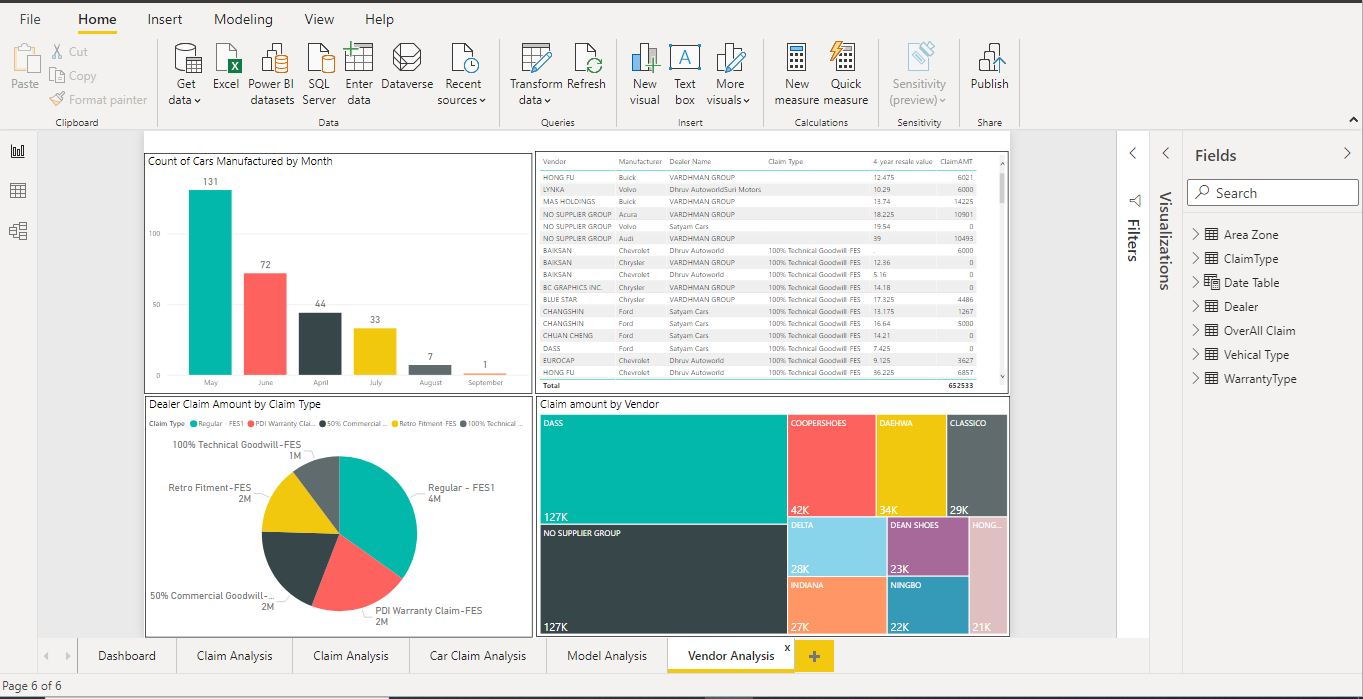

The dashboard page shown, as its layout file describes it:
{"tool":"powerbi","page":{"name":"Vendor Analysis","canvas":[1280,720],"ordinal":5},"visuals":[{"type":"pieChart","fields":{"Category":["ClaimType.Claim Type"],"Y":["Sum(ClaimType.Dealer Claim Amount)"]},"box":[1.3,362.3,572.9,357.3],"z":0},{"type":"tableEx","fields":{"Values":["Dealer.Vendor","Dealer.Manufacturer","Dealer.Dealer Name","ClaimType.Claim Type","Dealer.4-year resale value","Sum(Vehical Type.ClaimAMT)"]},"box":[577.8,0,700.5,359.5],"z":1000},{"type":"treemap","title":"Claim amount by Vendor","fields":{"Group":["Dealer.Vendor"],"Values":["Sum(Vehical Type.ClaimAMT)"]},"box":[579.2,362.3,700.8,356],"z":2000},{"type":"columnChart","title":"Count of Cars Manufactured by Month","fields":{"Category":["Date Table.Month"],"Y":["CountNonNull(Dealer.Manufacturer)"]},"box":[0,3.4,574.5,356.1],"z":3000}]}

Visuals, with their boxes on the page's 1280x720 design canvas (x1, y1, x2, y2). These are canvas units, not pixel positions in the 1363x699 screenshot, which may show the page scaled, cropped or inside an application window:
pieChart - ClaimType.Claim Type x Sum(ClaimType.Dealer Claim Amount): l=1, t=362, r=574, b=720
tableEx - Dealer.Vendor x Dealer.Manufacturer: l=578, t=0, r=1278, b=360
"Claim amount by Vendor" treemap: l=579, t=362, r=1280, b=718
"Count of Cars Manufactured by Month" columnChart: l=0, t=3, r=574, b=360
